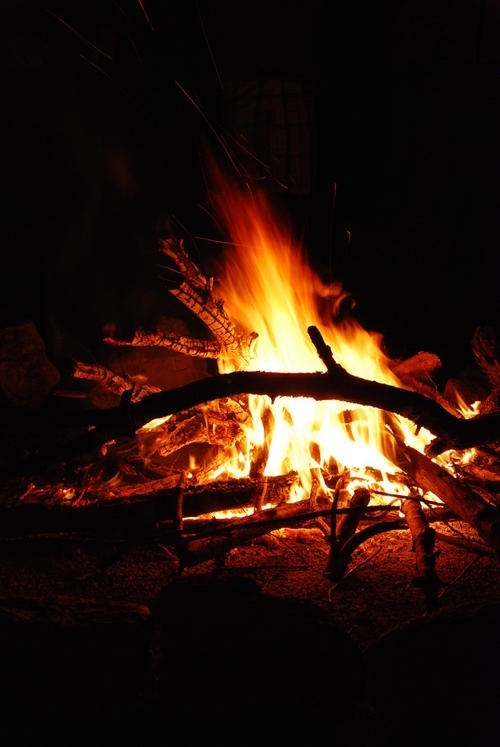fire: (167, 188, 475, 526)
